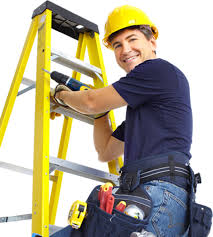Person_wearing_helmet: (101, 1, 160, 52)
